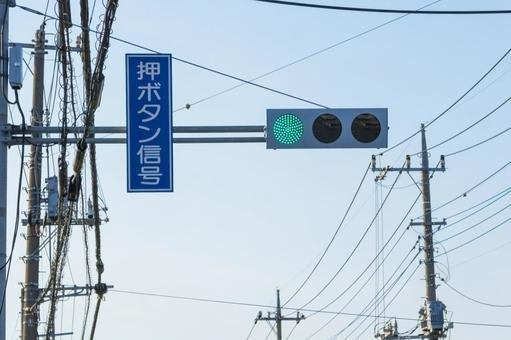cars: (264, 108, 386, 148)
